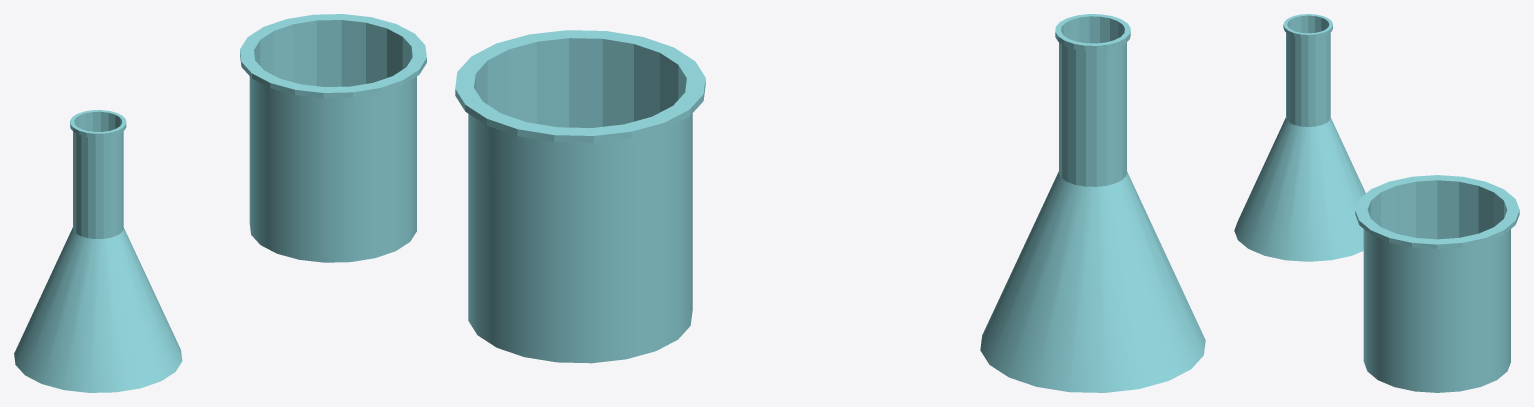
File: trastes.obj
3 renders of one model, left to right at view 1: azimuth 30°, elevation 25°; view 2: azimuth 150°, elevation 25°; view 3: azimuth 270°, elevation 25°, orthographic. The views are drawn at different scales.
Parts seen in each view (by area): view 1: pCylinder2, pCylinder1; view 2: pCylinder2, pCylinder1; view 3: pCylinder2, pCylinder1.
Boxes of the visible parts, box(x1,y1,x2,y2) form: pCylinder2: box(240, 14, 426, 262); pCylinder1: box(14, 110, 182, 392); pCylinder2: box(455, 30, 705, 363); pCylinder1: box(980, 14, 1205, 392); pCylinder2: box(1355, 175, 1519, 392); pCylinder1: box(1234, 14, 1365, 261).
Bounding box in the file's own units: 1.07 × 0.5169 × 0.6491.
2 materials, 2 textured.
